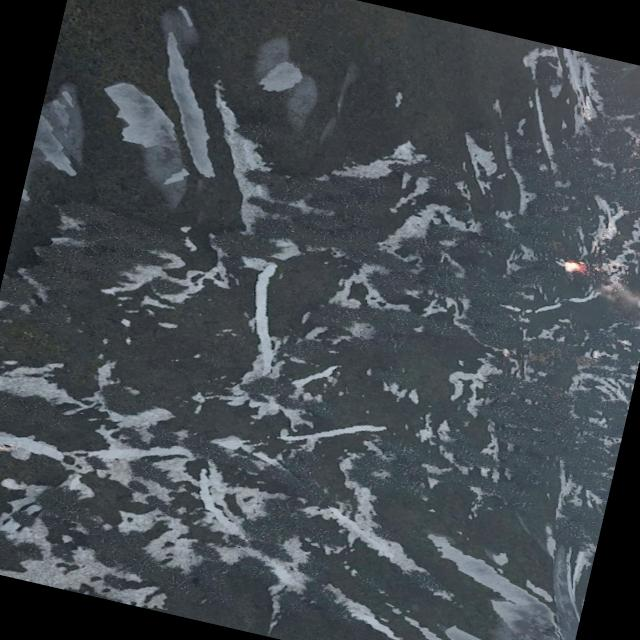fire: (561, 260, 583, 274)
smoke: (589, 274, 640, 325)
